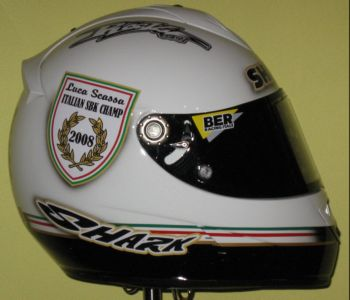helmet: (8, 15, 339, 293)
